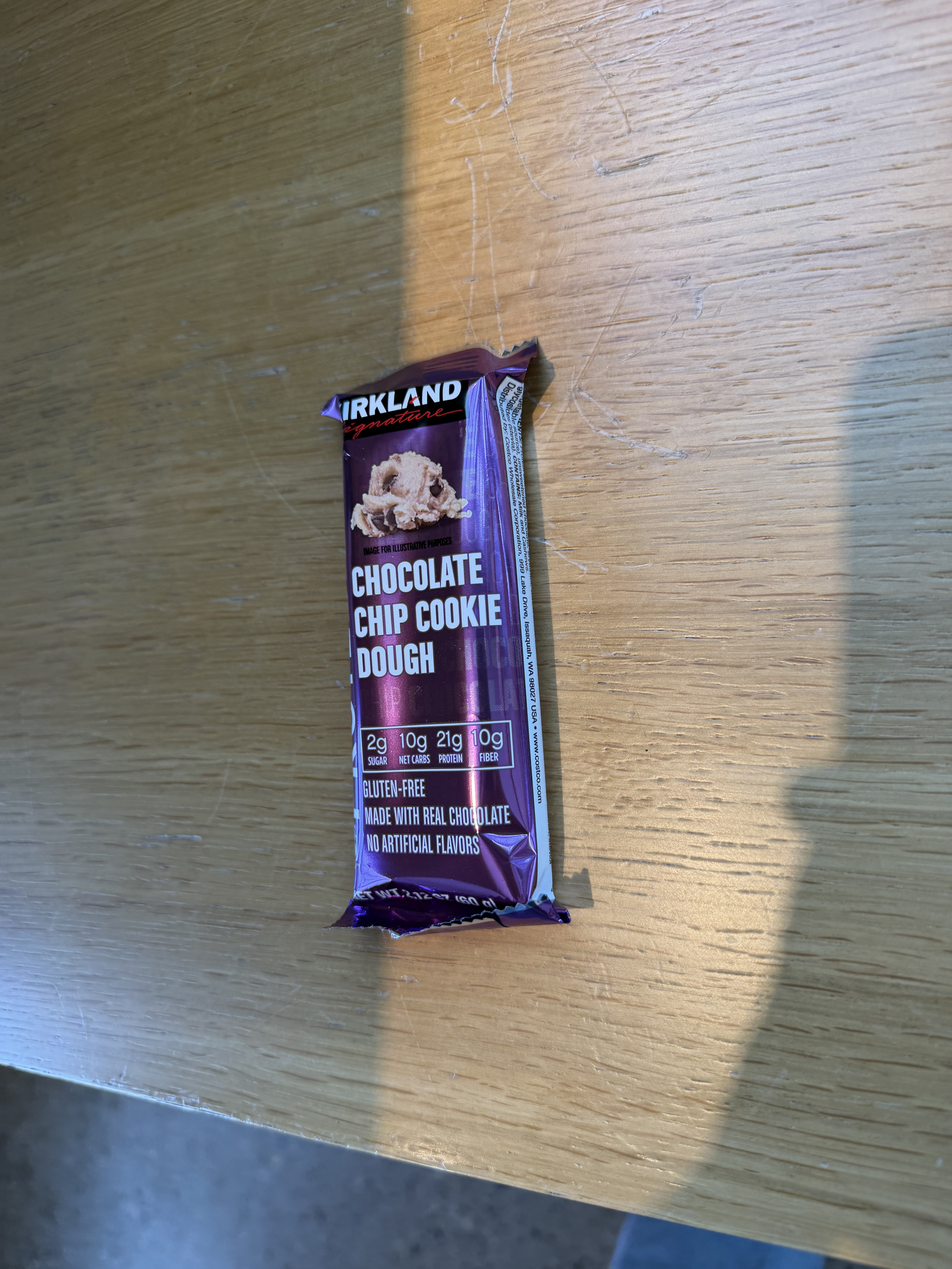chocolate_chip_cookie_dough: (282, 337, 606, 939)
